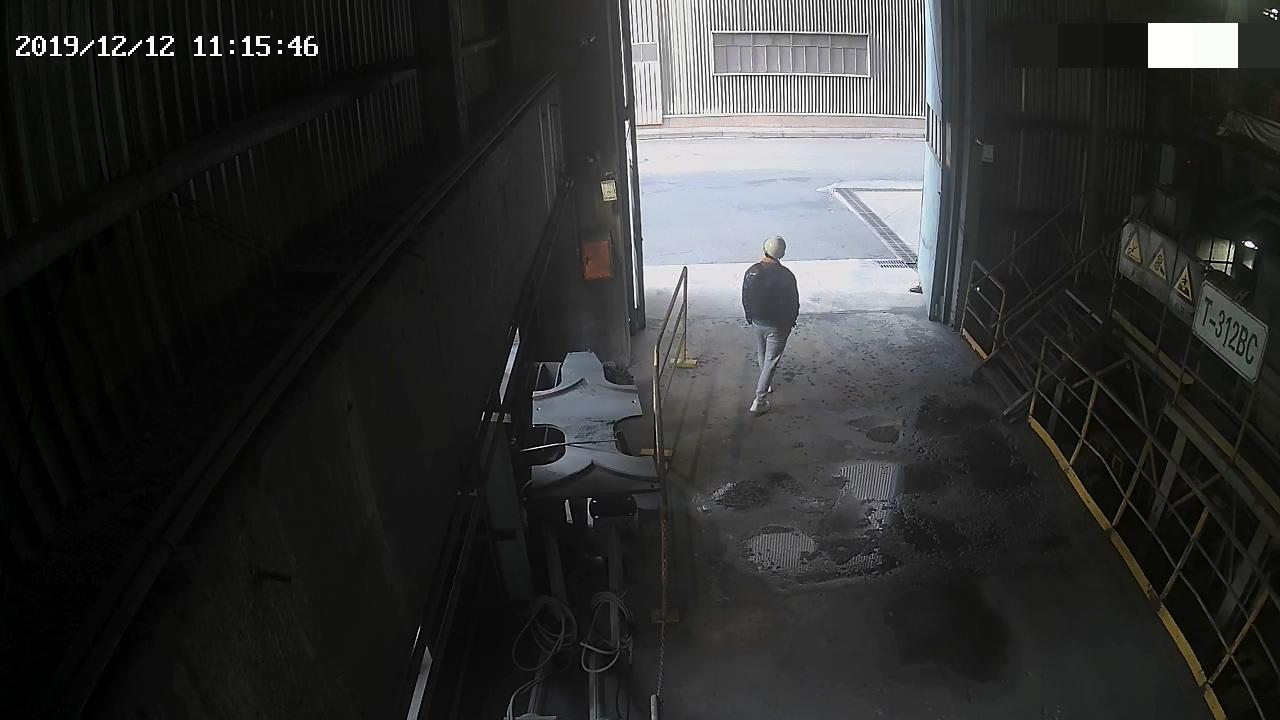hat: (763, 235, 786, 262)
person: (740, 235, 800, 414)
